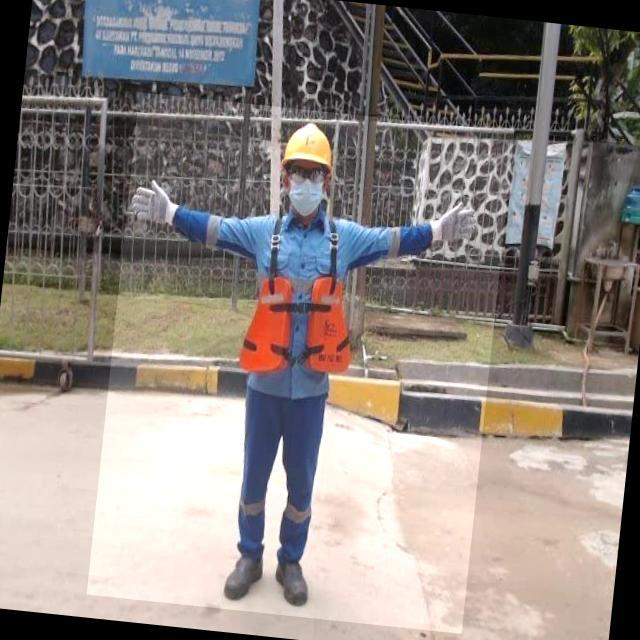Gloves: (123, 163, 187, 243), (423, 194, 485, 261)
Helmet: (276, 109, 345, 179)
Person: (105, 82, 495, 623)
Safety Boot: (218, 545, 271, 609), (270, 553, 318, 614)
Safety Vest: (238, 268, 360, 381)
